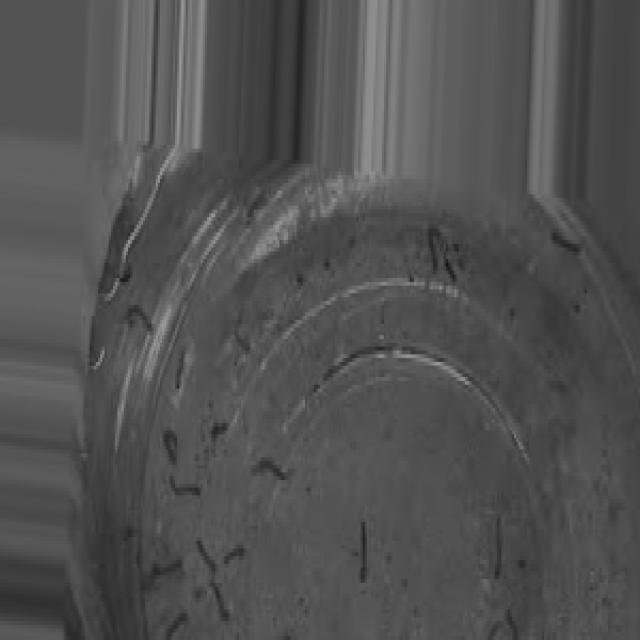larvas: (518, 555, 544, 601), (197, 540, 220, 578), (251, 457, 290, 479), (211, 584, 231, 625), (170, 474, 201, 498), (128, 304, 152, 333), (443, 243, 461, 281), (166, 610, 188, 639), (359, 516, 368, 584), (235, 317, 250, 355), (552, 233, 579, 253), (162, 430, 177, 466), (154, 557, 182, 576), (504, 608, 520, 640), (176, 346, 187, 391), (430, 224, 440, 273), (210, 418, 227, 444), (224, 543, 244, 562), (496, 517, 502, 579), (118, 262, 131, 285), (489, 617, 501, 640), (242, 405, 248, 434)
